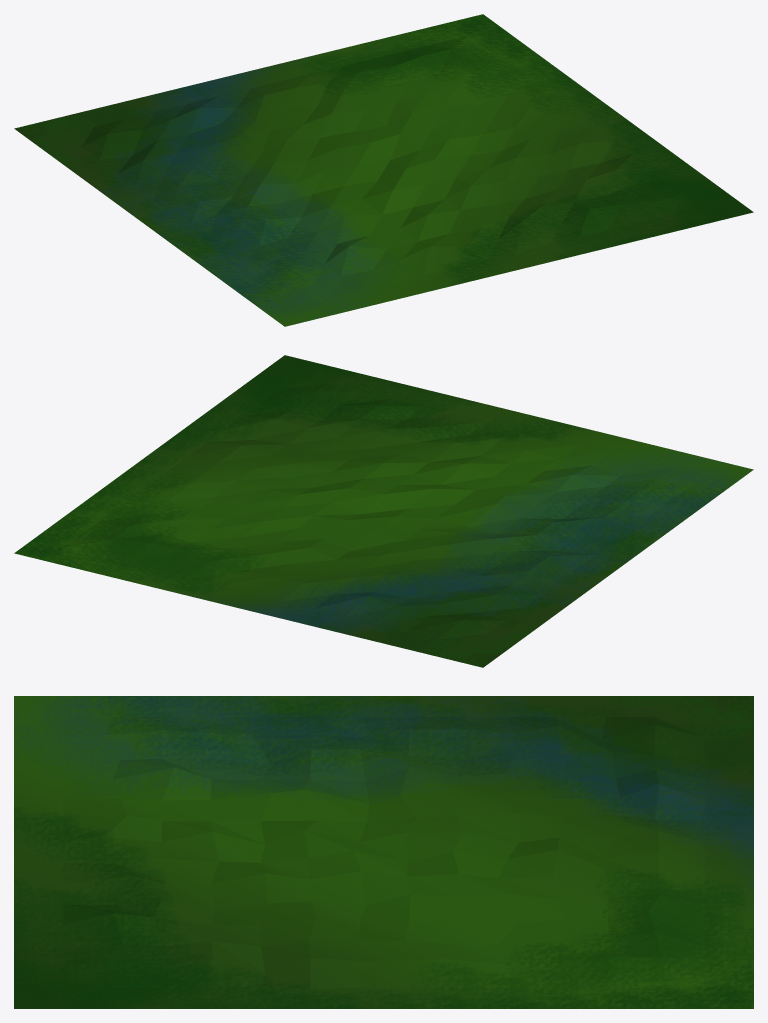
File: Landschaft_Wald.fbx
The picture shows the model from 3 angles, top to bottom: view 1: azimuth 30°, elevation 25°; view 2: azimuth 150°, elevation 25°; view 3: azimuth 270°, elevation 25°; orthographic projection. The views are drawn at different scales.
Parts seen in each view (by area): view 1: Ebene_1; view 2: Ebene_1; view 3: Ebene_1.
Part boxes in pixels (x1,y1,x2,y2): Ebene_1: (14,14,753,326); Ebene_1: (14,355,753,667); Ebene_1: (14,696,753,1008).
Size of the model in its own units: 20000 by 550 by 20000.
